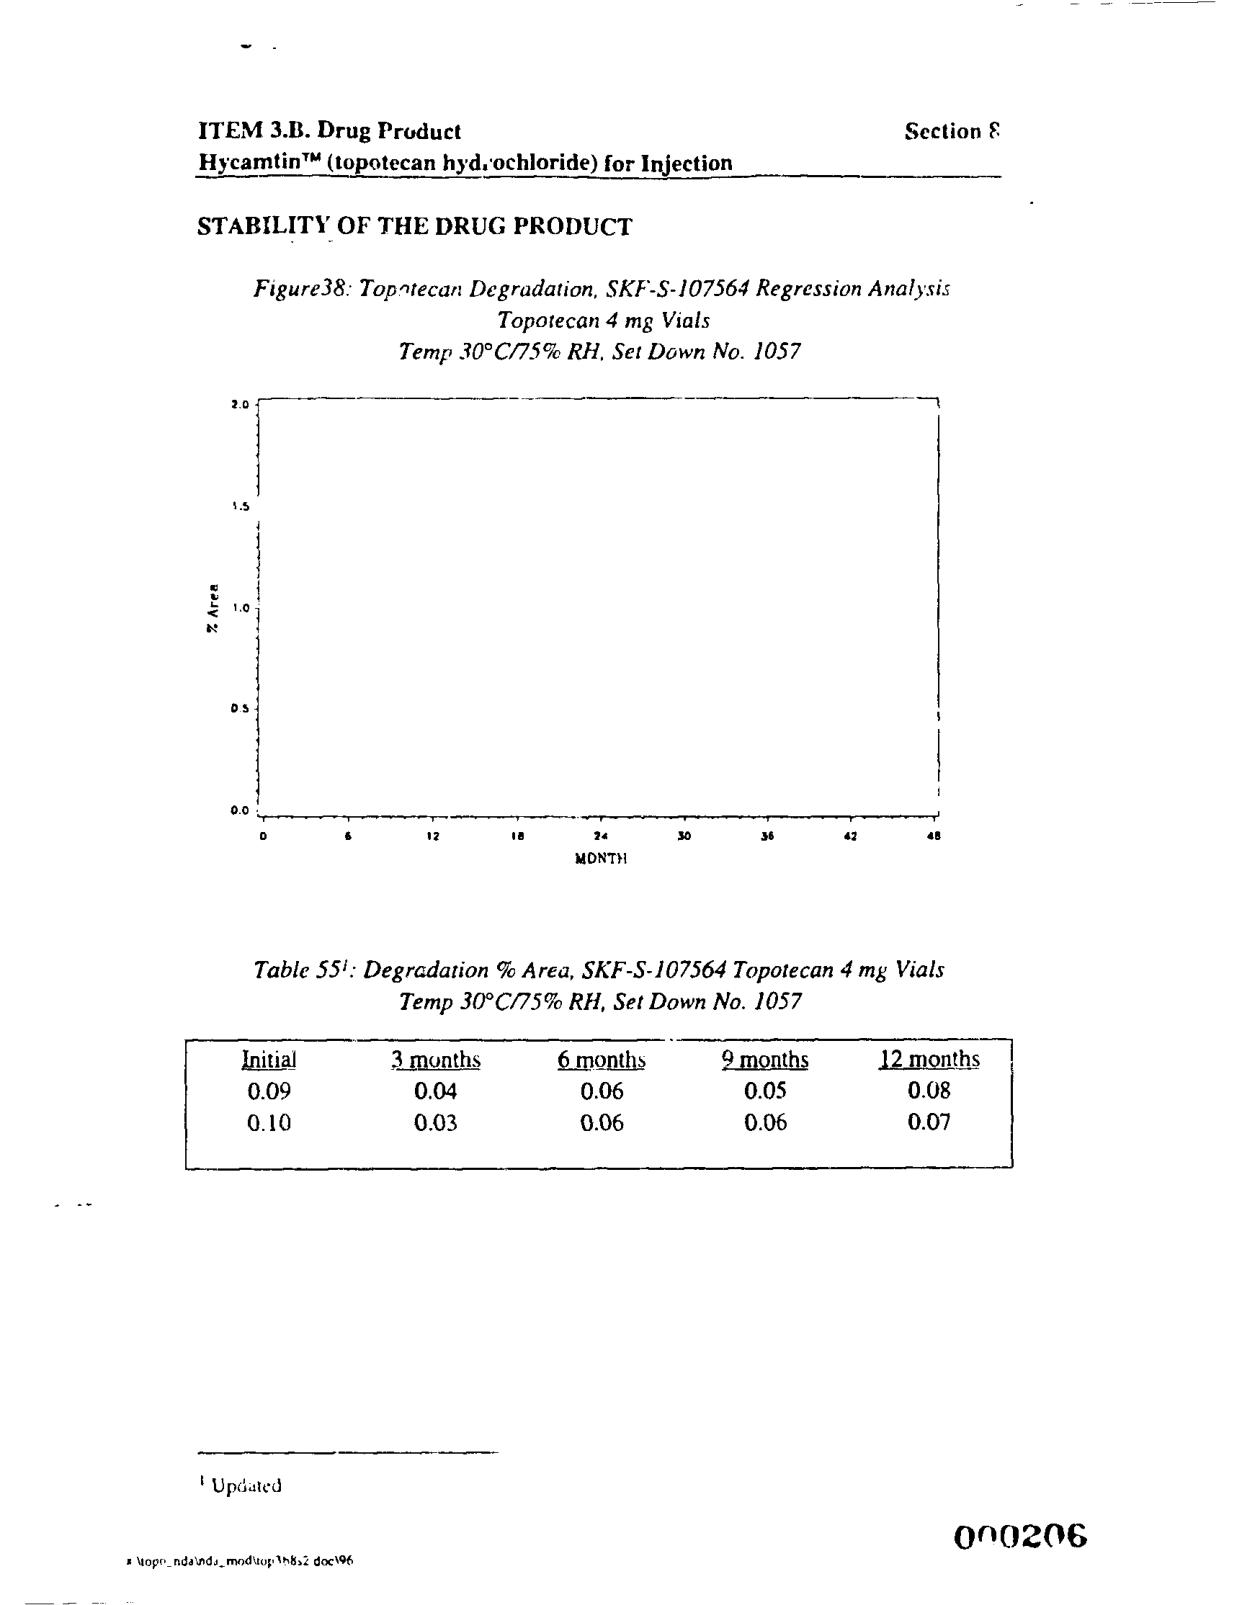partial_lined: (182, 1034, 1014, 1174)
